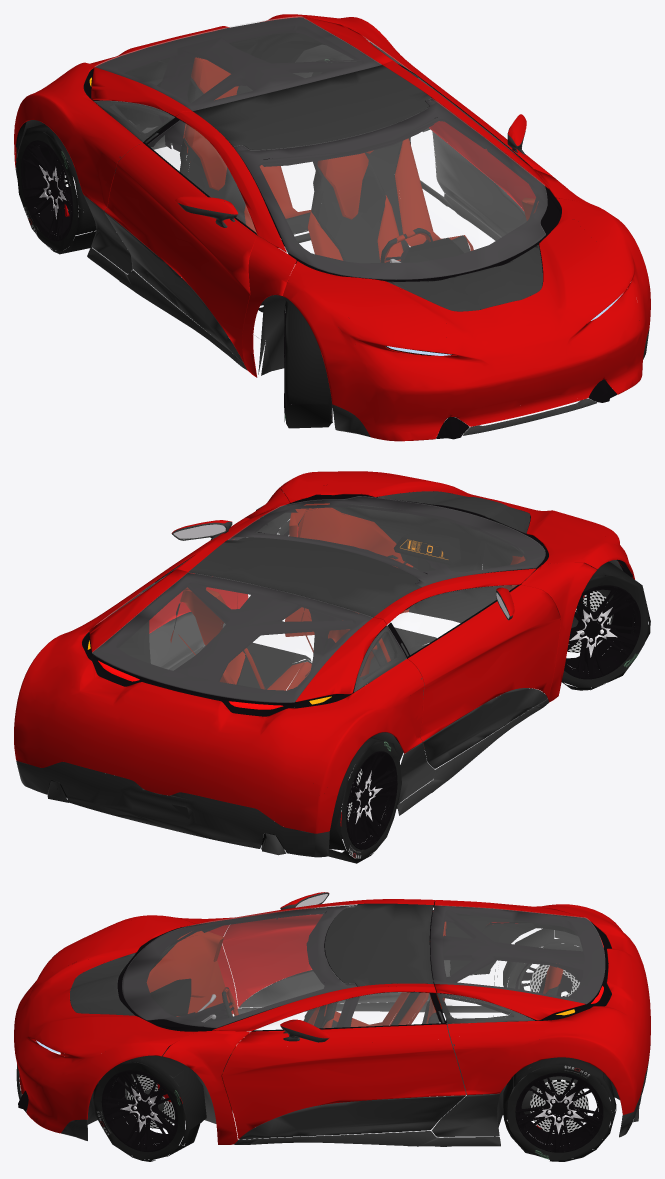
File: concept-race.glb
The picture shows the model from 3 angles, top to bottom: view 1: azimuth 30°, elevation 25°; view 2: azimuth 150°, elevation 25°; view 3: azimuth 270°, elevation 25°; orthographic projection. The views are drawn at different scales.
Parts seen in each view (by area): view 1: BodyHood, BodyWindshield, BodyRearwindow, BodyDoorRColor1, BodyRearPanelsColor1, BodyWindshieldGasket, BodyRoofPanel, InteriorSeatsColor1, InteriorSeatsColor2, BodyPillars, InteriorPillar, BodyPanelsColor2 (+15 smaller); view 2: BodyRearPanelsColor1, BodyRearwindow, BodyWindshield, BodyPanelsColor2, BodyDoorRColor1, BodyRoofPanel, BodyHood, InteriorRearHatch, BodyPillars, InteriorDashMid, InteriorPillar, BodyWindshieldGasket (+17 smaller); view 3: BodyWindshield, BodyRearPanelsColor1, BodyDoorLColor1, BodyHood, BodyRearwindow, BodyRoofPanel, BodyPillars, BodyWindshieldGasket, BodyPanelsColor2, BodyDoorLColor2, BodyDoorRColor1, InteriorRearHatch (+22 smaller).
Part boxes in pixels (x1=…): BodyHood: x1=283, y1=198, x2=650, y2=441; BodyWindshield: x1=233, y1=98, x2=547, y2=279; BodyRearwindow: x1=95, y1=16, x2=381, y2=110; BodyDoorRColor1: x1=104, y1=142, x2=257, y2=361; BodyRearPanelsColor1: x1=14, y1=14, x2=433, y2=210; BodyWindshieldGasket: x1=234, y1=99, x2=561, y2=281; BodyRoofPanel: x1=193, y1=65, x2=430, y2=150; InteriorSeatsColor1: x1=183, y1=57, x2=473, y2=261; InteriorSeatsColor2: x1=179, y1=77, x2=470, y2=312; BodyPillars: x1=176, y1=61, x2=596, y2=377; InteriorPillar: x1=158, y1=37, x2=433, y2=243; BodyPanelsColor2: x1=15, y1=126, x2=649, y2=437; BodyRearPanelsColor1: x1=14, y1=569, x2=424, y2=833; BodyRearwindow: x1=92, y1=572, x2=372, y2=702; BodyWindshield: x1=228, y1=496, x2=545, y2=586; BodyPanelsColor2: x1=16, y1=645, x2=549, y2=857; BodyDoorRColor1: x1=408, y1=585, x2=560, y2=741; BodyRoofPanel: x1=188, y1=537, x2=421, y2=617; BodyHood: x1=276, y1=471, x2=634, y2=579; InteriorRearHatch: x1=93, y1=573, x2=385, y2=707; BodyPillars: x1=174, y1=489, x2=596, y2=702; InteriorDashMid: x1=329, y1=503, x2=524, y2=623; InteriorPillar: x1=173, y1=566, x2=415, y2=692; BodyWindshieldGasket: x1=229, y1=494, x2=548, y2=587; BodyWindshield: x1=122, y1=904, x2=356, y2=1027; BodyRearPanelsColor1: x1=434, y1=900, x2=650, y2=1114; BodyDoorLColor1: x1=222, y1=1024, x2=465, y2=1139; BodyHood: x1=14, y1=915, x2=196, y2=1133; BodyRearwindow: x1=430, y1=905, x2=604, y2=1003; BodyRoofPanel: x1=325, y1=903, x2=433, y2=986; BodyPillars: x1=162, y1=899, x2=436, y2=1144; BodyWindshieldGasket: x1=117, y1=905, x2=356, y2=1031; BodyPanelsColor2: x1=16, y1=975, x2=650, y2=1146; BodyDoorLColor2: x1=239, y1=1095, x2=465, y2=1139; BodyDoorRColor1: x1=222, y1=911, x2=445, y2=1007; InteriorRearHatch: x1=430, y1=905, x2=604, y2=1020.
Size of the model in its own units: 2.55 by 1.17 by 4.36.
20 materials, 5 textured.
